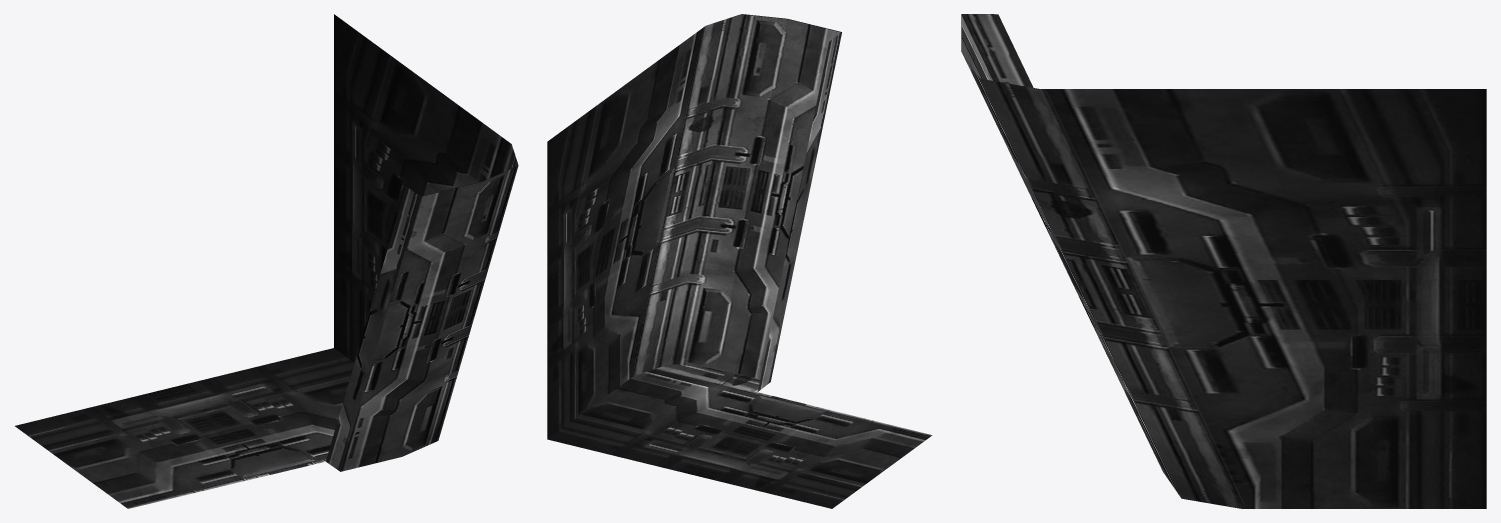
Rendered from CubeBaseFrontBackground17.fbx.
3 renders of one model, left to right at view 1: azimuth 30°, elevation 25°; view 2: azimuth 150°, elevation 25°; view 3: azimuth 270°, elevation 25°, orthographic. The views are drawn at different scales.
Visible parts, largest first — view 1: polySurface81; view 2: polySurface81; view 3: polySurface81.
Part boxes in pixels (x1,y1,x2,y2): polySurface81: (15, 14, 518, 508); polySurface81: (547, 14, 932, 508); polySurface81: (961, 14, 1486, 508).
Bounding box in the file's own units: 1 × 1 × 1.13.
Materials: 1 (1 with a texture image).
